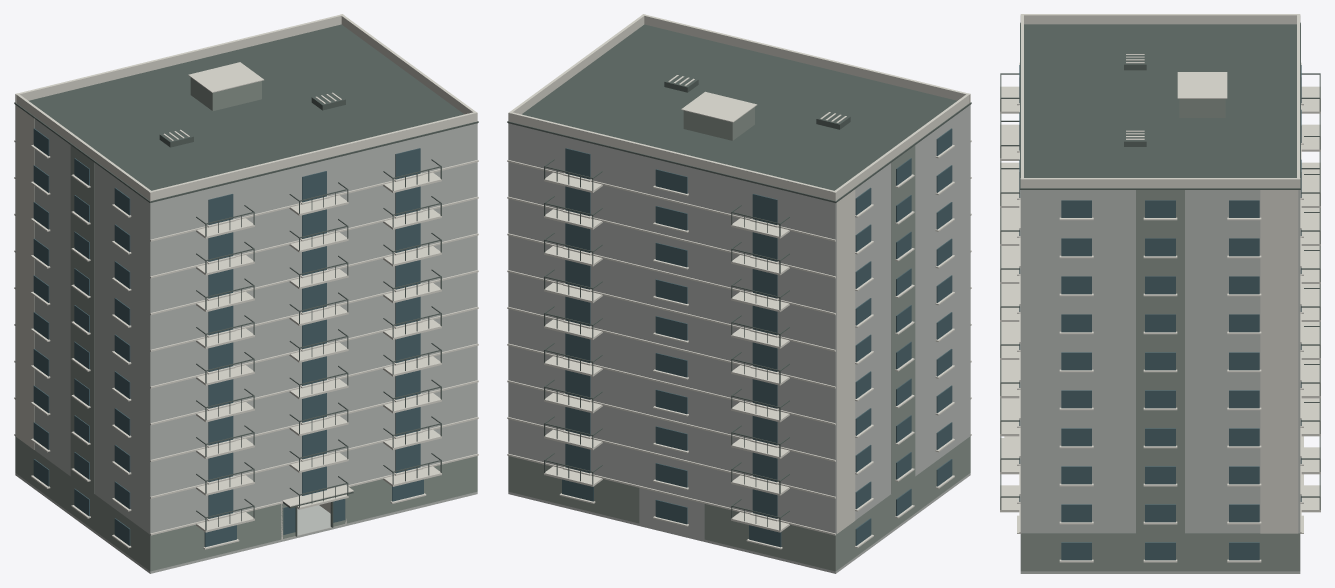
Rendered from midrise-10.glb.
The picture shows the model from 3 angles, left to right: view 1: azimuth 30°, elevation 25°; view 2: azimuth 150°, elevation 25°; view 3: azimuth 270°, elevation 25°; orthographic projection. The views are drawn at different scales.
Parts seen in each view (by area): view 1: GC-MID-001-C-concrete, GC-MID-001-C-offwhite, GC-MID-001-C-metal, GC-MID-001-C-glass, GC-MID-001-C-sage; view 2: GC-MID-001-C-concrete, GC-MID-001-C-metal, GC-MID-001-C-offwhite, GC-MID-001-C-glass, GC-MID-001-C-sage; view 3: GC-MID-001-C-concrete, GC-MID-001-C-metal, GC-MID-001-C-offwhite, GC-MID-001-C-sage, GC-MID-001-C-glass.
Part boxes in pixels (x1,y1,x2,y2): GC-MID-001-C-concrete: (15, 105, 477, 573); GC-MID-001-C-offwhite: (14, 14, 478, 549); GC-MID-001-C-metal: (14, 24, 478, 536); GC-MID-001-C-glass: (33, 128, 423, 547); GC-MID-001-C-sage: (15, 77, 477, 571); GC-MID-001-C-concrete: (508, 105, 970, 573); GC-MID-001-C-metal: (507, 24, 971, 530); GC-MID-001-C-offwhite: (507, 14, 971, 549); GC-MID-001-C-glass: (562, 128, 952, 547); GC-MID-001-C-sage: (508, 107, 970, 571); GC-MID-001-C-concrete: (1020, 190, 1300, 573); GC-MID-001-C-metal: (1000, 22, 1320, 509); GC-MID-001-C-offwhite: (1000, 14, 1320, 562); GC-MID-001-C-sage: (1020, 99, 1300, 571); GC-MID-001-C-glass: (1019, 65, 1301, 560).
Bounding box in the file's own units: 28.53 × 32.07 × 22.94.
